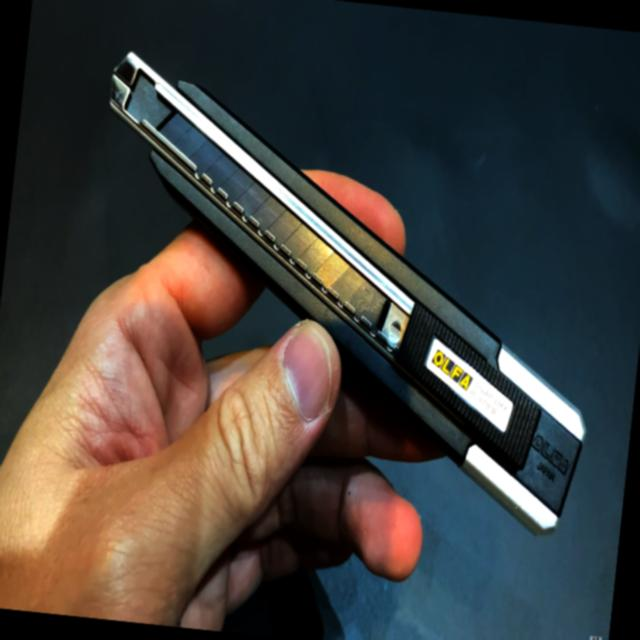cutter: (33, 0, 640, 552)
